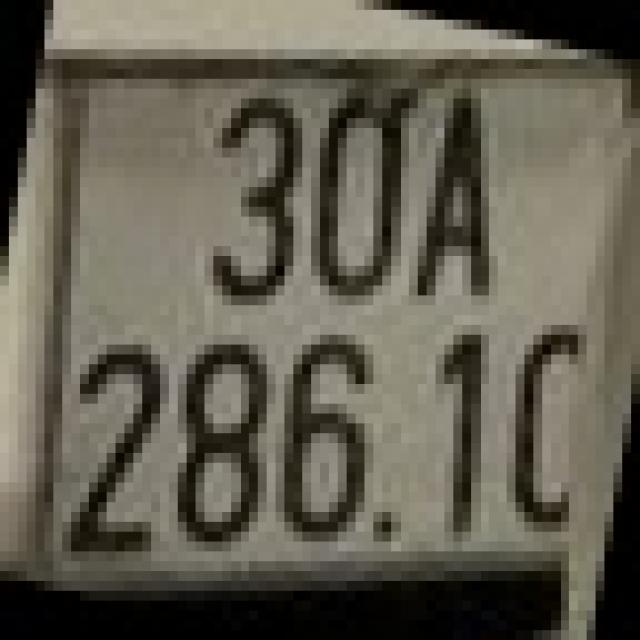0: (311, 88, 400, 296), (506, 325, 586, 522)
1: (427, 325, 489, 541)
2: (62, 345, 160, 561)
3: (205, 89, 302, 305)
6: (284, 334, 374, 542)
8: (178, 334, 266, 542)
A: (409, 89, 498, 305)
